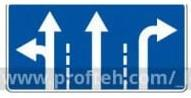road_sign: (4, 1, 189, 94)
